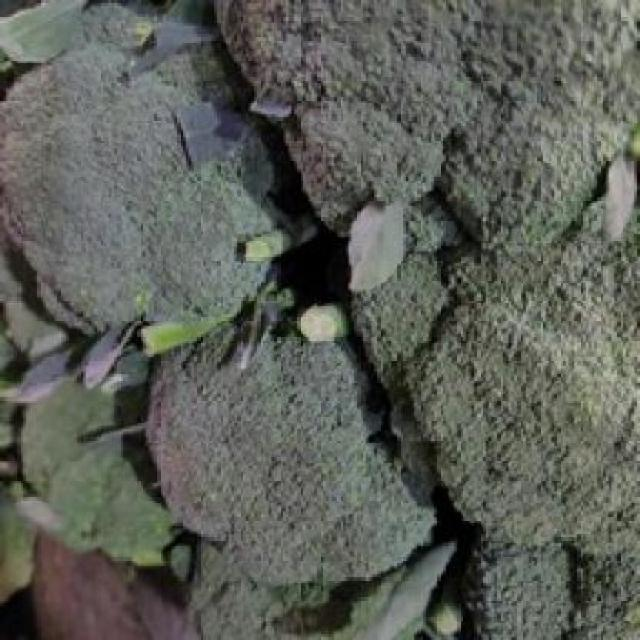broccoli: (230, 0, 638, 263), (354, 253, 637, 550), (0, 29, 280, 328), (146, 308, 412, 568)
